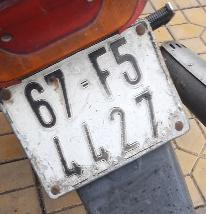2: (100, 100, 149, 159)
4: (72, 114, 120, 171), (49, 127, 92, 185)
5: (105, 30, 151, 95)
6: (15, 75, 67, 139)
7: (39, 64, 87, 130), (129, 83, 172, 146)
F: (80, 41, 127, 107)
